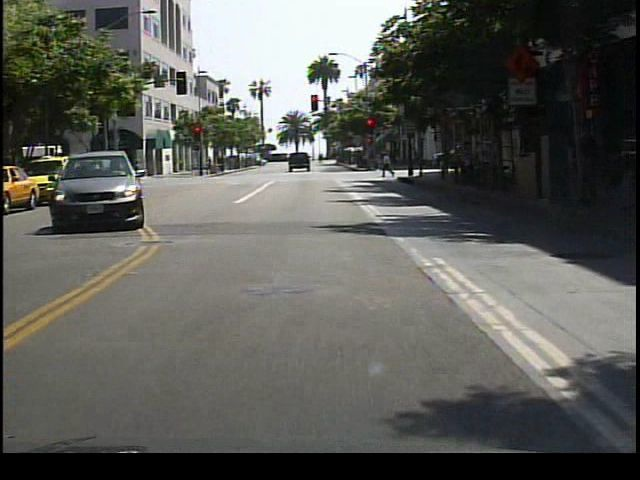person: (410, 143, 426, 174), (380, 151, 396, 178)
